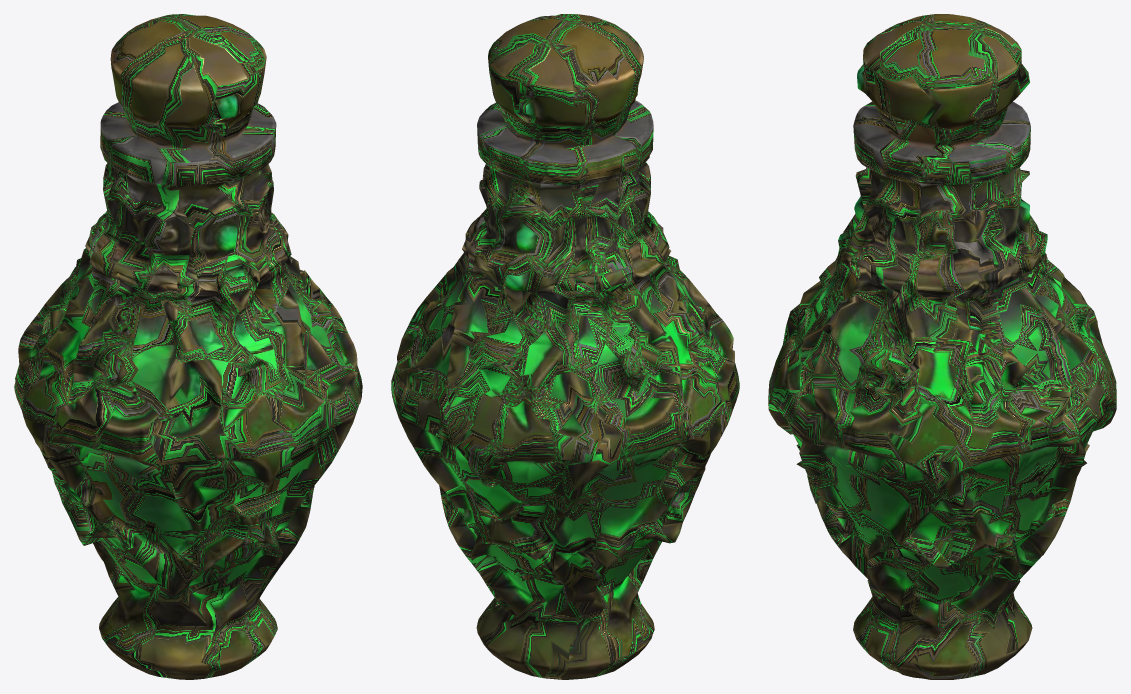
File: elixir-emerald.glb
3 views of the same model, side by side, from view 1: azimuth 30°, elevation 25°; view 2: azimuth 150°, elevation 25°; view 3: azimuth 270°, elevation 25° (orthographic).
Bounding box in the file's own units: 1 × 2 × 1.
1 material, 1 textured.
